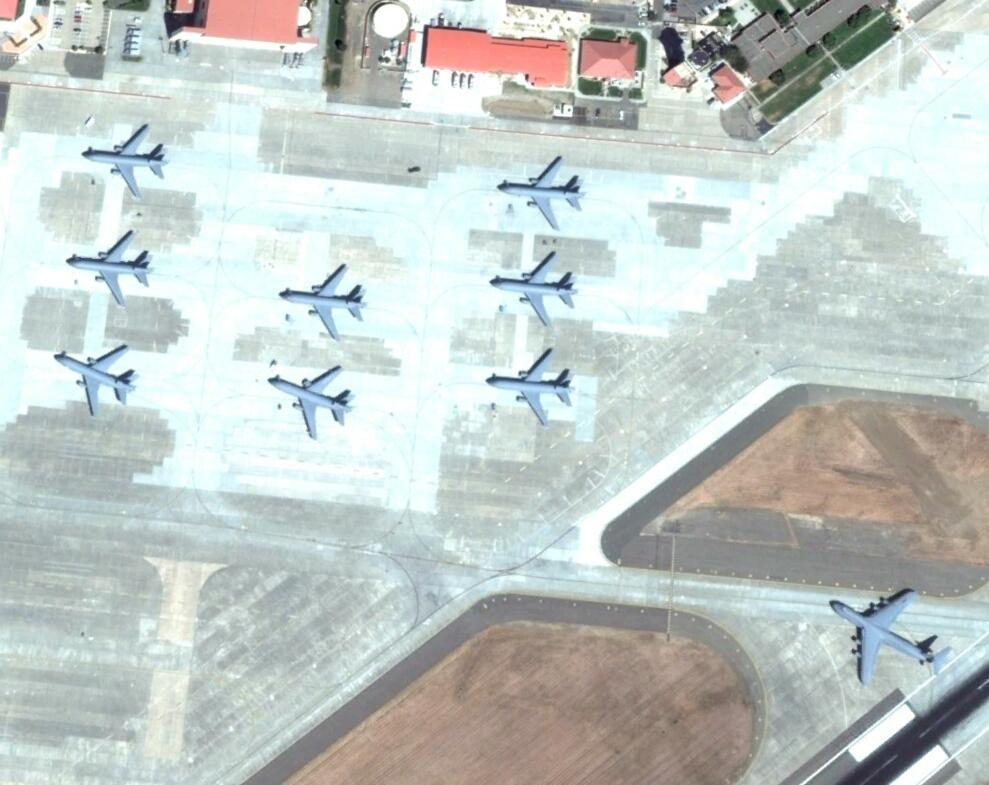A18: (277, 260, 367, 342), (488, 249, 578, 325), (484, 349, 576, 423), (67, 226, 153, 305), (265, 361, 352, 439), (50, 339, 138, 416), (82, 120, 165, 197), (497, 157, 585, 228)
A4: (829, 586, 950, 685)
